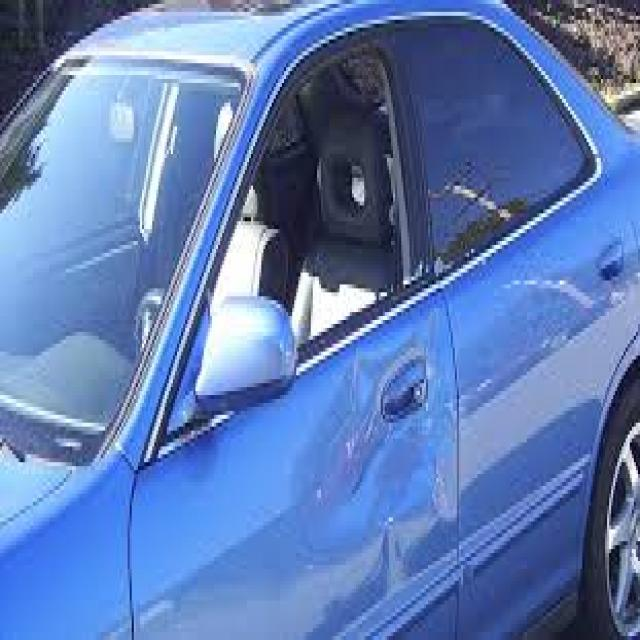minor: (327, 249, 484, 640)
